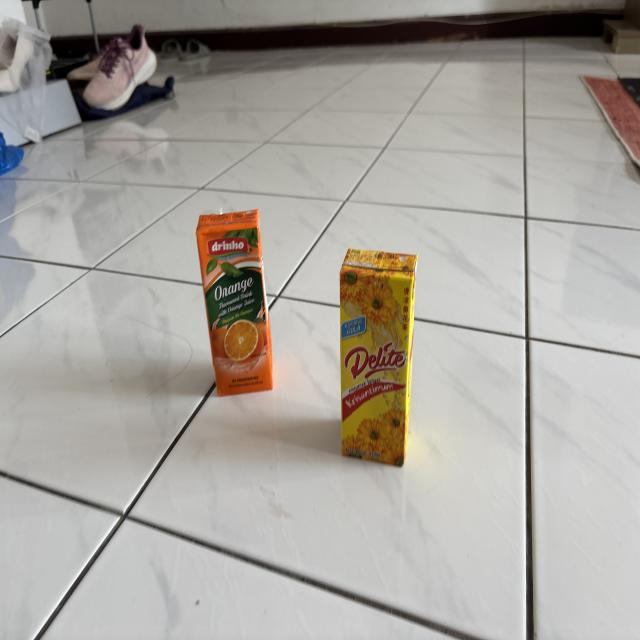drink_carton: (329, 230, 427, 479), (188, 199, 284, 404)
